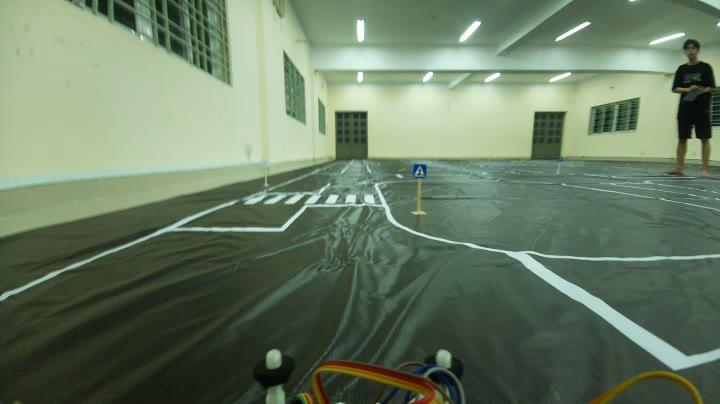crosswalk: (408, 158, 431, 181)
